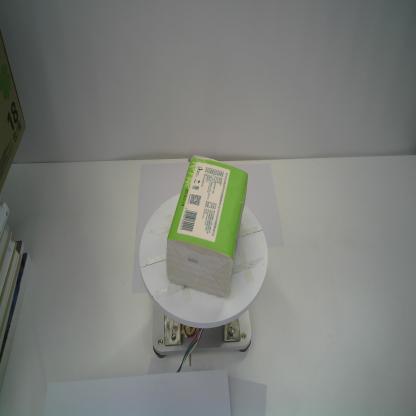Tissue: (164, 153, 249, 299)
